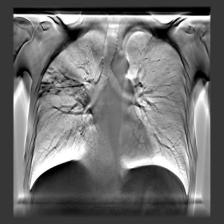tuberculosis: (26, 25, 194, 199)
